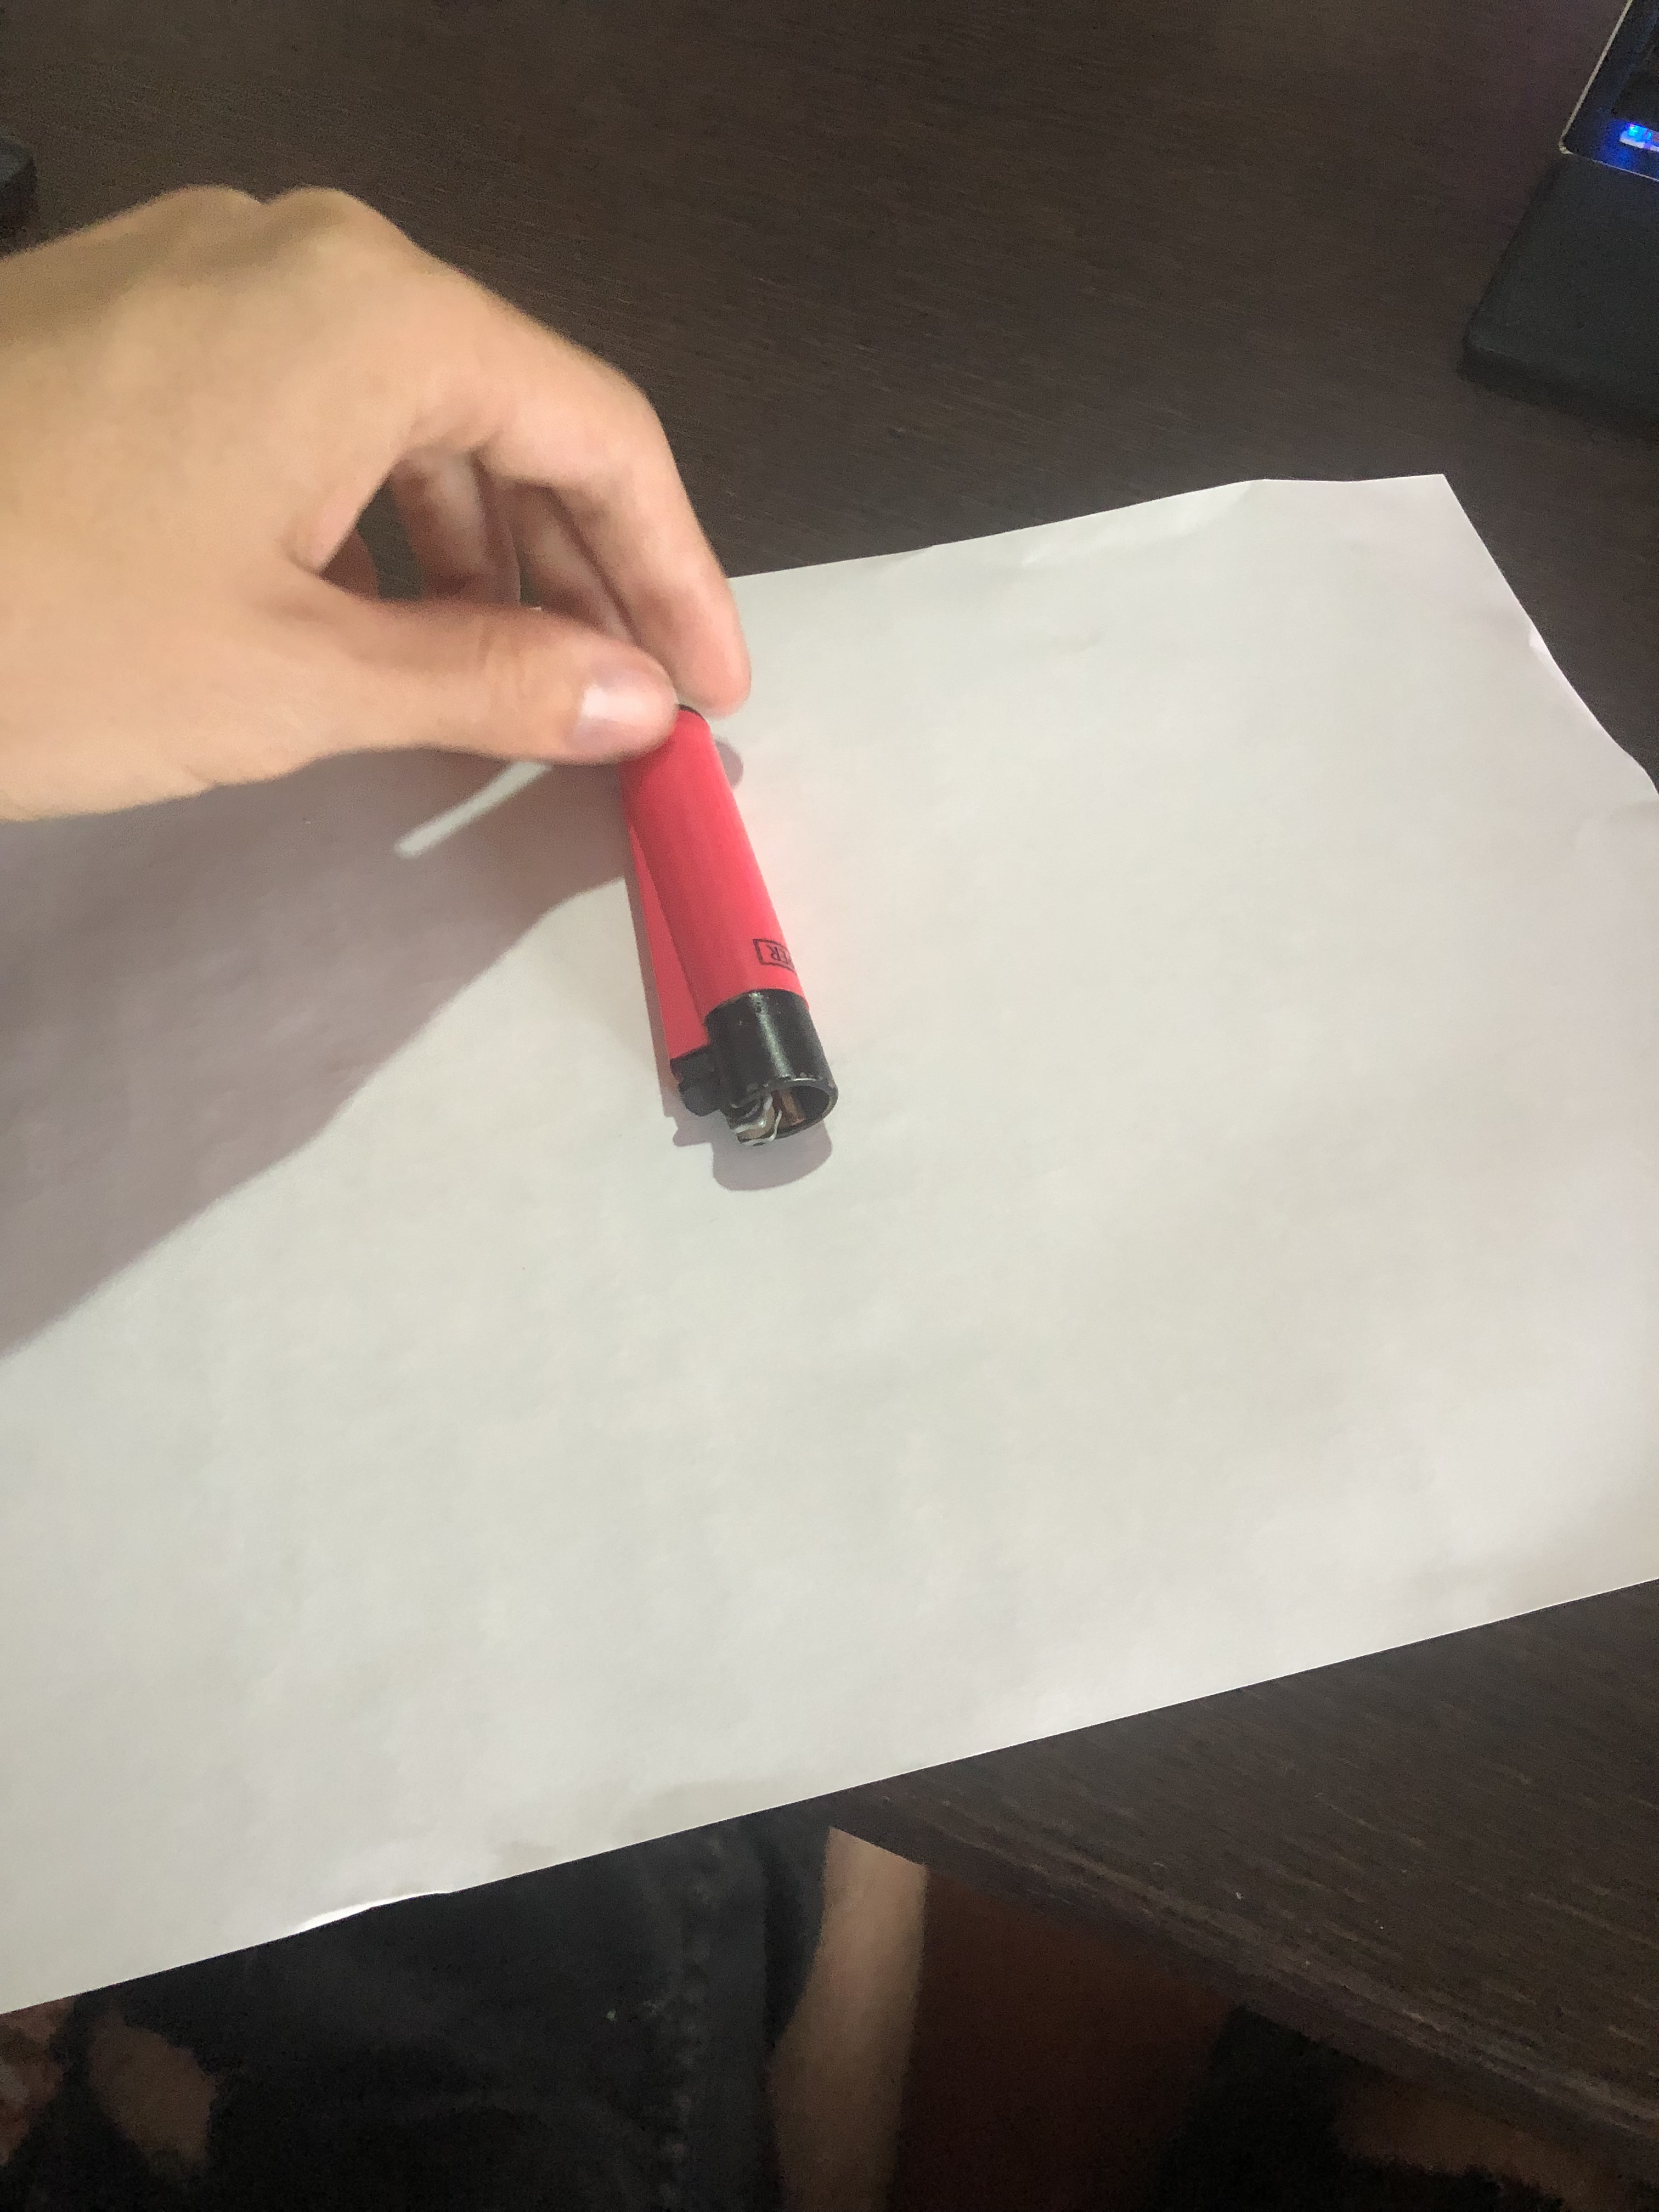Mechero: (589, 756, 857, 1174)
